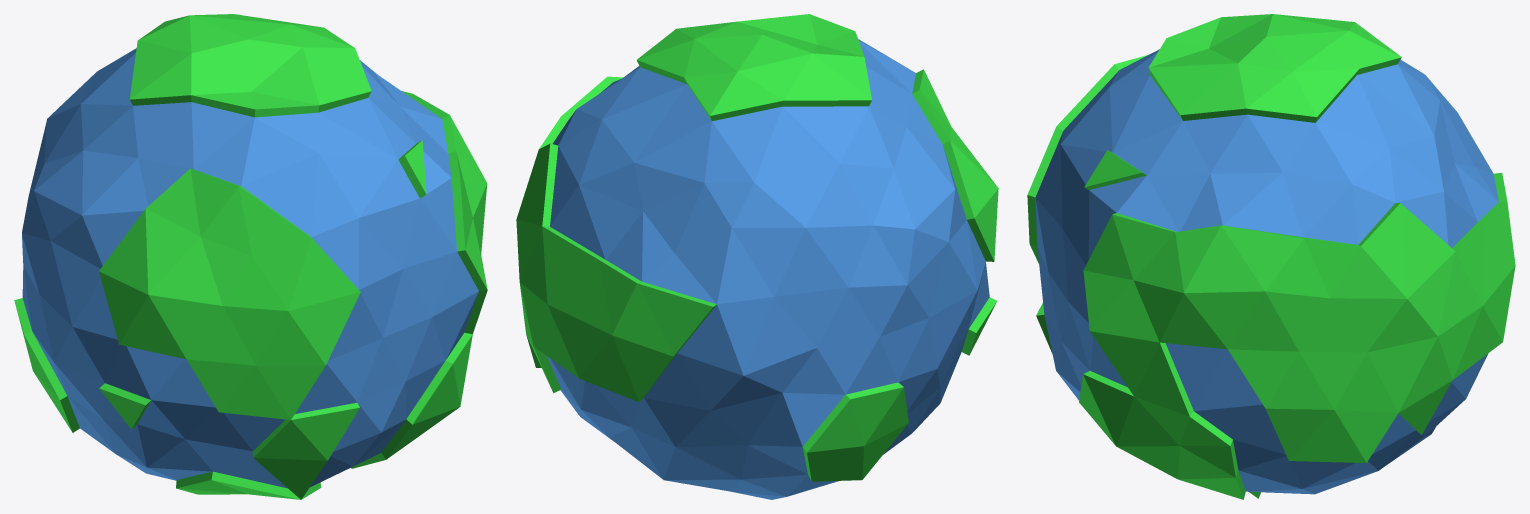
File: Earth.fbx
3 views of the same model, side by side, from view 1: azimuth 30°, elevation 25°; view 2: azimuth 150°, elevation 25°; view 3: azimuth 270°, elevation 25° (orthographic).
Visible parts, largest first — view 1: Earth; view 2: Earth; view 3: Earth.
Boxes of the visible parts, box(x1,y1,x2,y2) form: Earth: box(14, 14, 487, 499); Earth: box(516, 14, 998, 499); Earth: box(1027, 14, 1515, 499).
Bounding box in the file's own units: 204 × 205 × 191.
